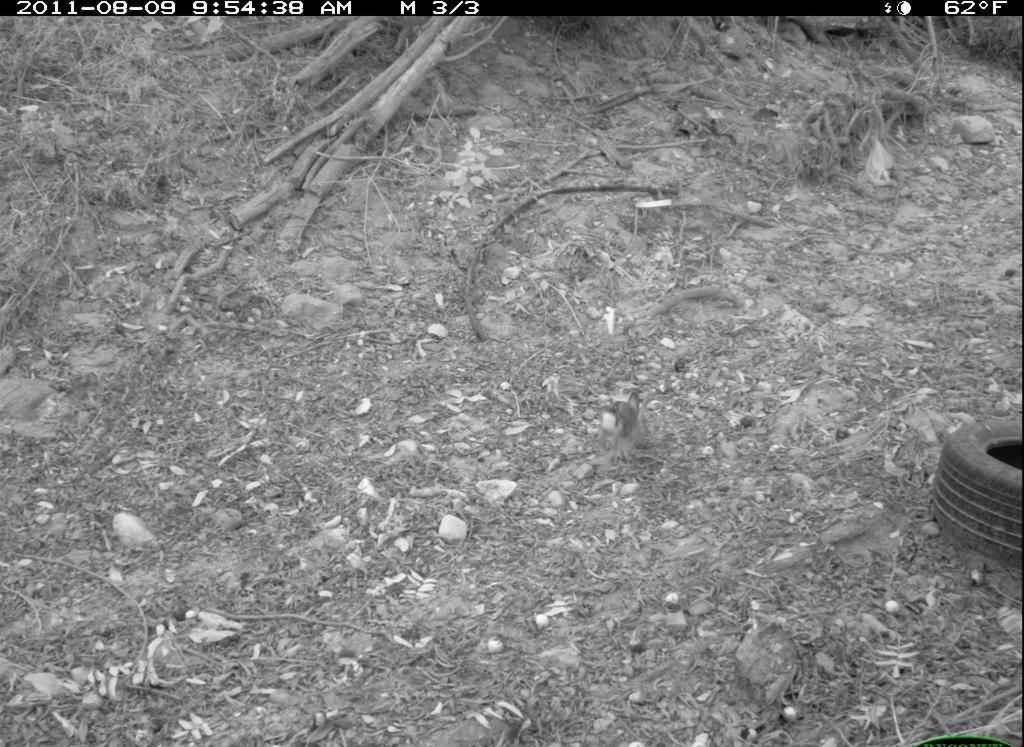rabbit: (594, 385, 652, 464)
